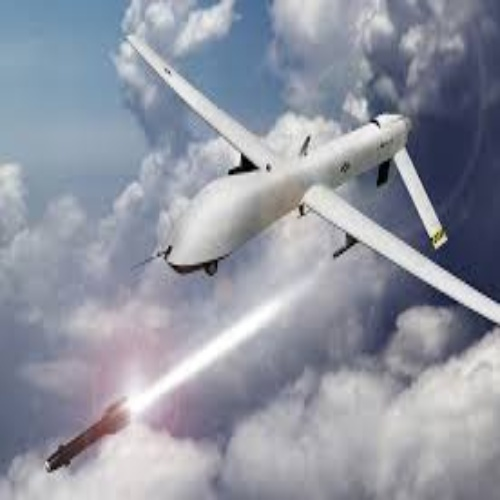uav610: (119, 31, 500, 320)
